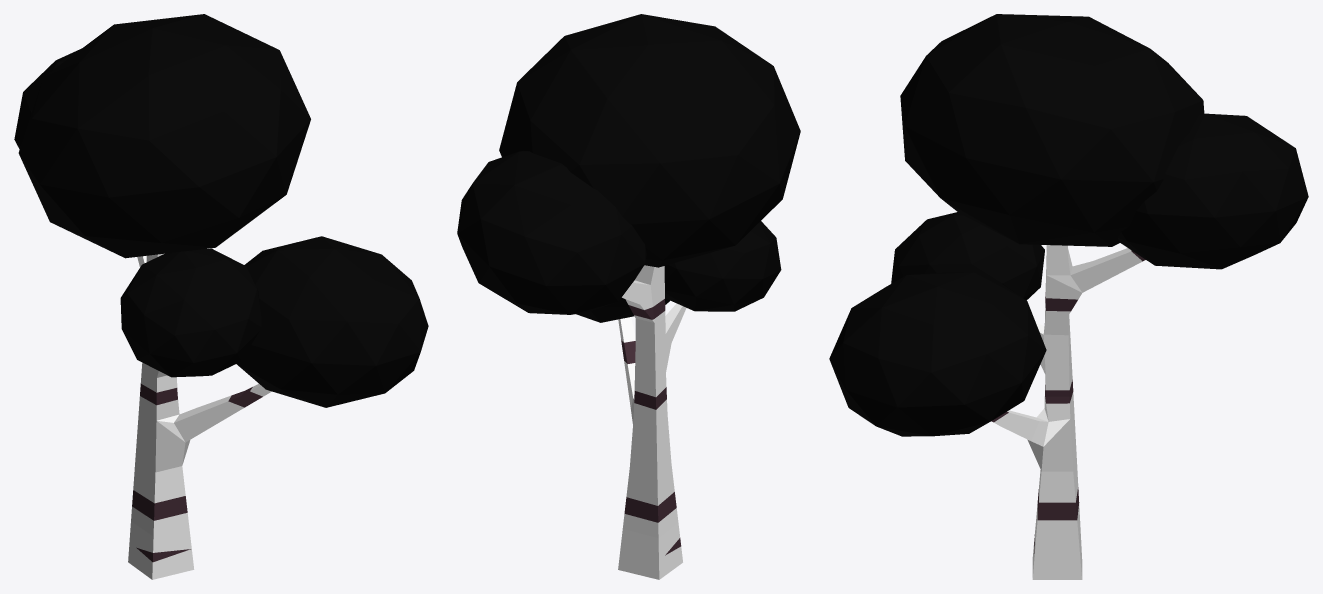
Rendered from Tree_14_1.fbx.
The picture shows the model from 3 angles, left to right: view 1: azimuth 30°, elevation 25°; view 2: azimuth 150°, elevation 25°; view 3: azimuth 270°, elevation 25°; orthographic projection. The views are drawn at different scales.
Visible parts, largest first — view 1: Tree_14 top, Tree_14 trunk; view 2: Tree_14 top, Tree_14 trunk; view 3: Tree_14 top, Tree_14 trunk.
Boxes of the visible parts, bbox=[...] form: Tree_14 top: bbox=[14, 14, 428, 536]; Tree_14 trunk: bbox=[128, 521, 194, 579]; Tree_14 top: bbox=[457, 14, 800, 537]; Tree_14 trunk: bbox=[618, 522, 682, 579]; Tree_14 top: bbox=[829, 14, 1308, 536]; Tree_14 trunk: bbox=[1032, 519, 1082, 579].
Size of the model in its own units: 362 by 584 by 465.
